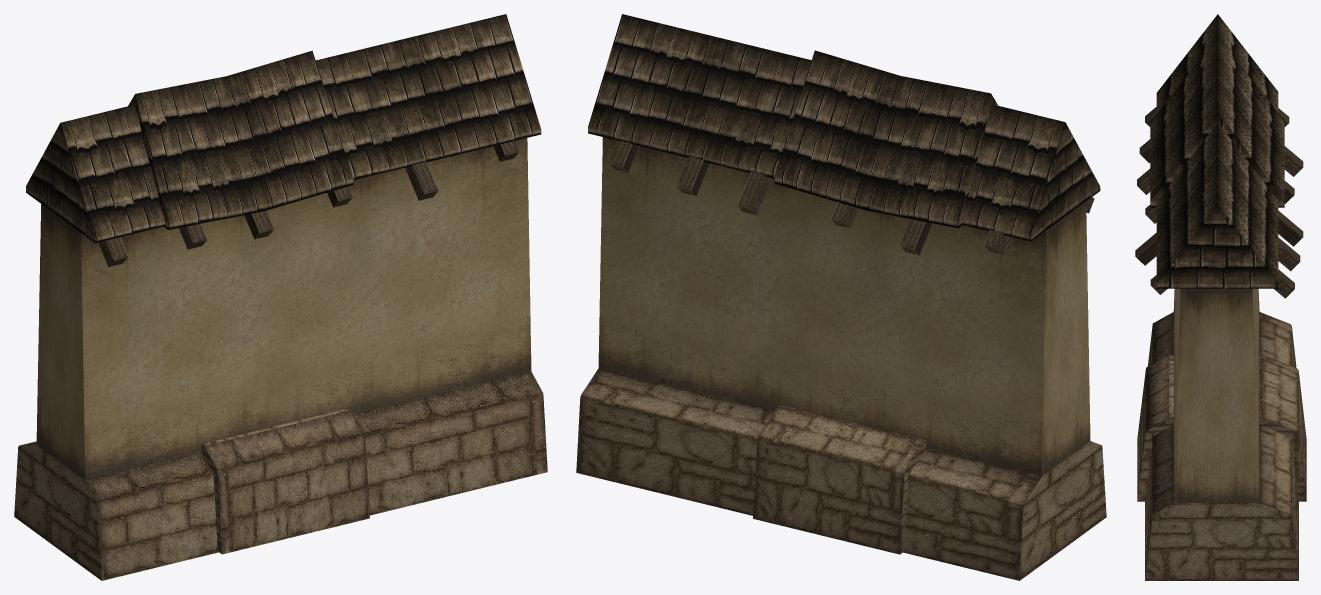
File: Wall_07.fbx
3 renders of one model, left to right at view 1: azimuth 30°, elevation 25°; view 2: azimuth 150°, elevation 25°; view 3: azimuth 270°, elevation 25°, orthographic. The views are drawn at different scales.
Visible parts, largest first — view 1: Wall_07; view 2: Wall_07; view 3: Wall_07.
Boxes of the visible parts, x1,y1,x2,y2 form: Wall_07: (14,14,547,580); Wall_07: (576,14,1106,580); Wall_07: (1135,14,1306,580).
Bounding box in the file's own units: 8.43 × 7.92 × 3.19.
